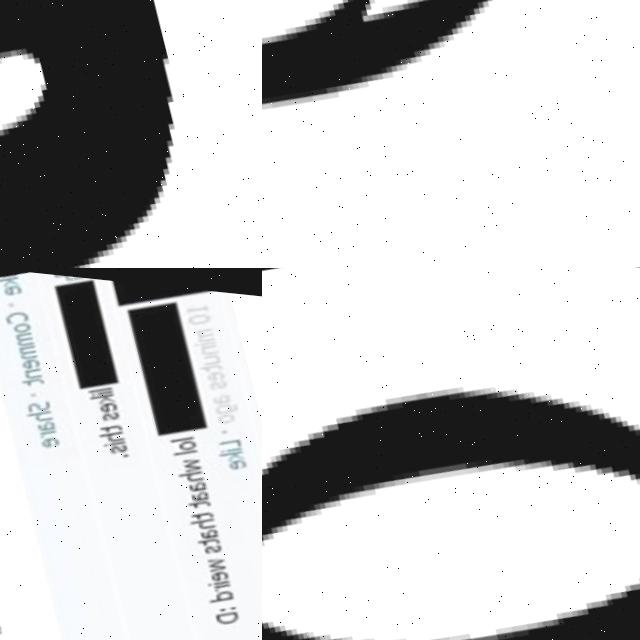0: (262, 286, 640, 640), (185, 299, 211, 317)
1: (183, 290, 208, 306)
9: (262, 0, 598, 181)
U: (0, 0, 249, 268)
